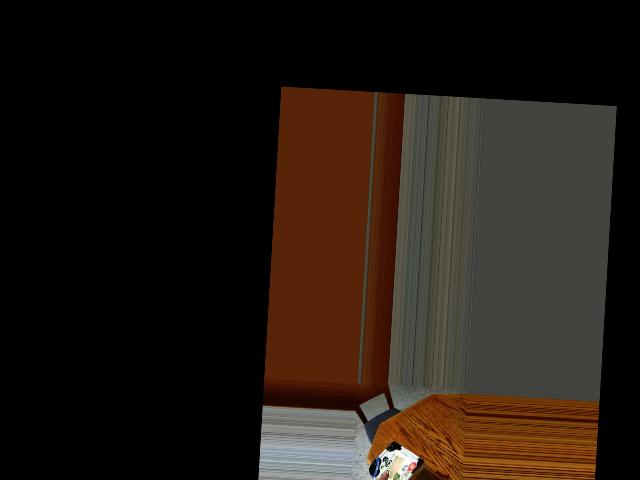cheese: (373, 440, 421, 480)
